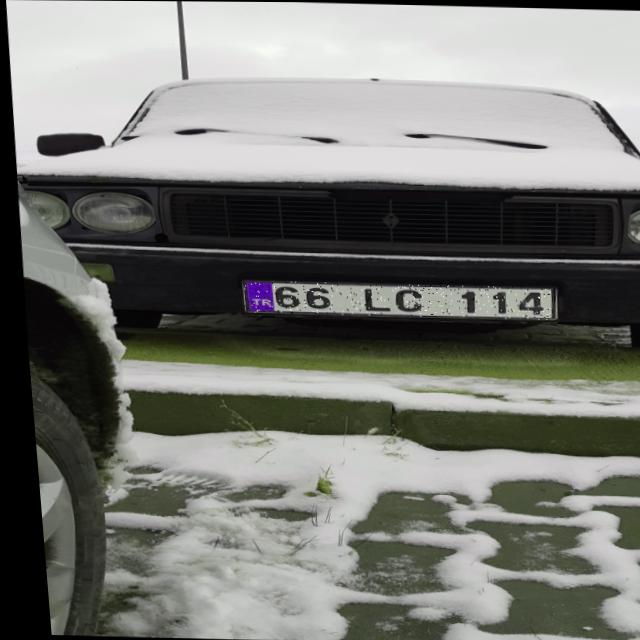license_plate: (237, 280, 550, 319)
